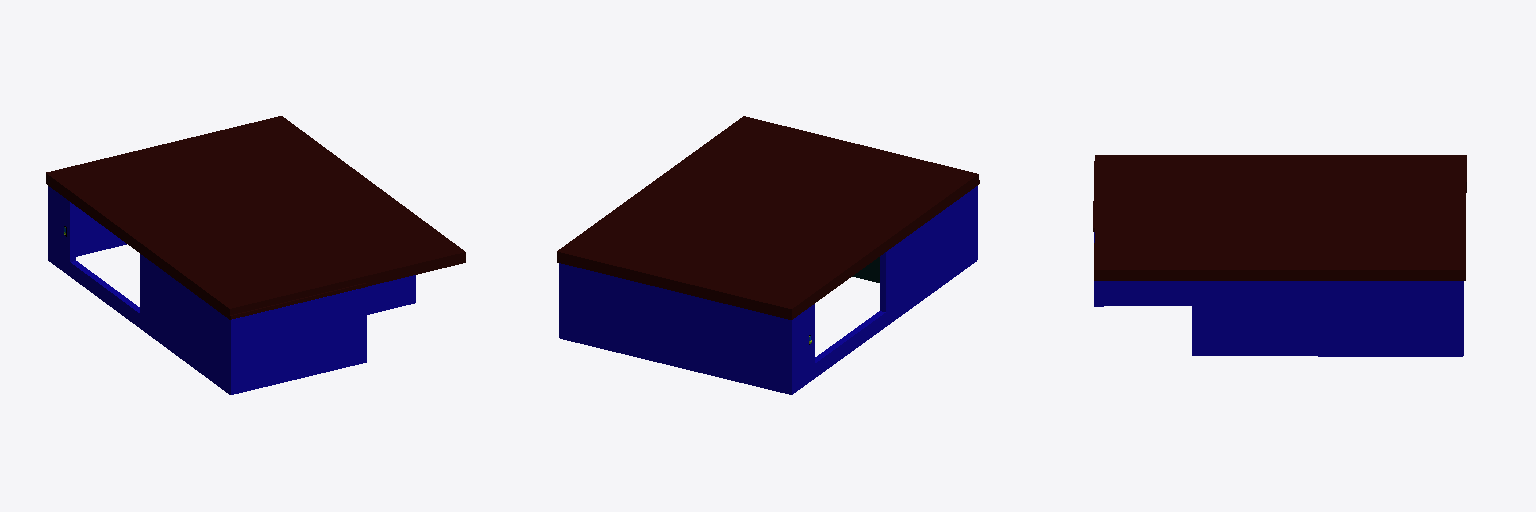
Rendered from garage.obj.
The picture shows the model from 3 angles: view 1: azimuth 30°, elevation 25°; view 2: azimuth 150°, elevation 25°; view 3: azimuth 270°, elevation 25°; orthographic projection.
Visible parts, largest first — view 1: Cube.001_Cube.002; view 2: Cube.001_Cube.002; view 3: Cube.001_Cube.002.
Part boxes in pixels (x1,y1,x2,y2): Cube.001_Cube.002: (46, 116, 465, 394); Cube.001_Cube.002: (557, 116, 979, 394); Cube.001_Cube.002: (1093, 155, 1466, 356).
Bounding box in the file's own units: 9.79 × 3.43 × 13.36.